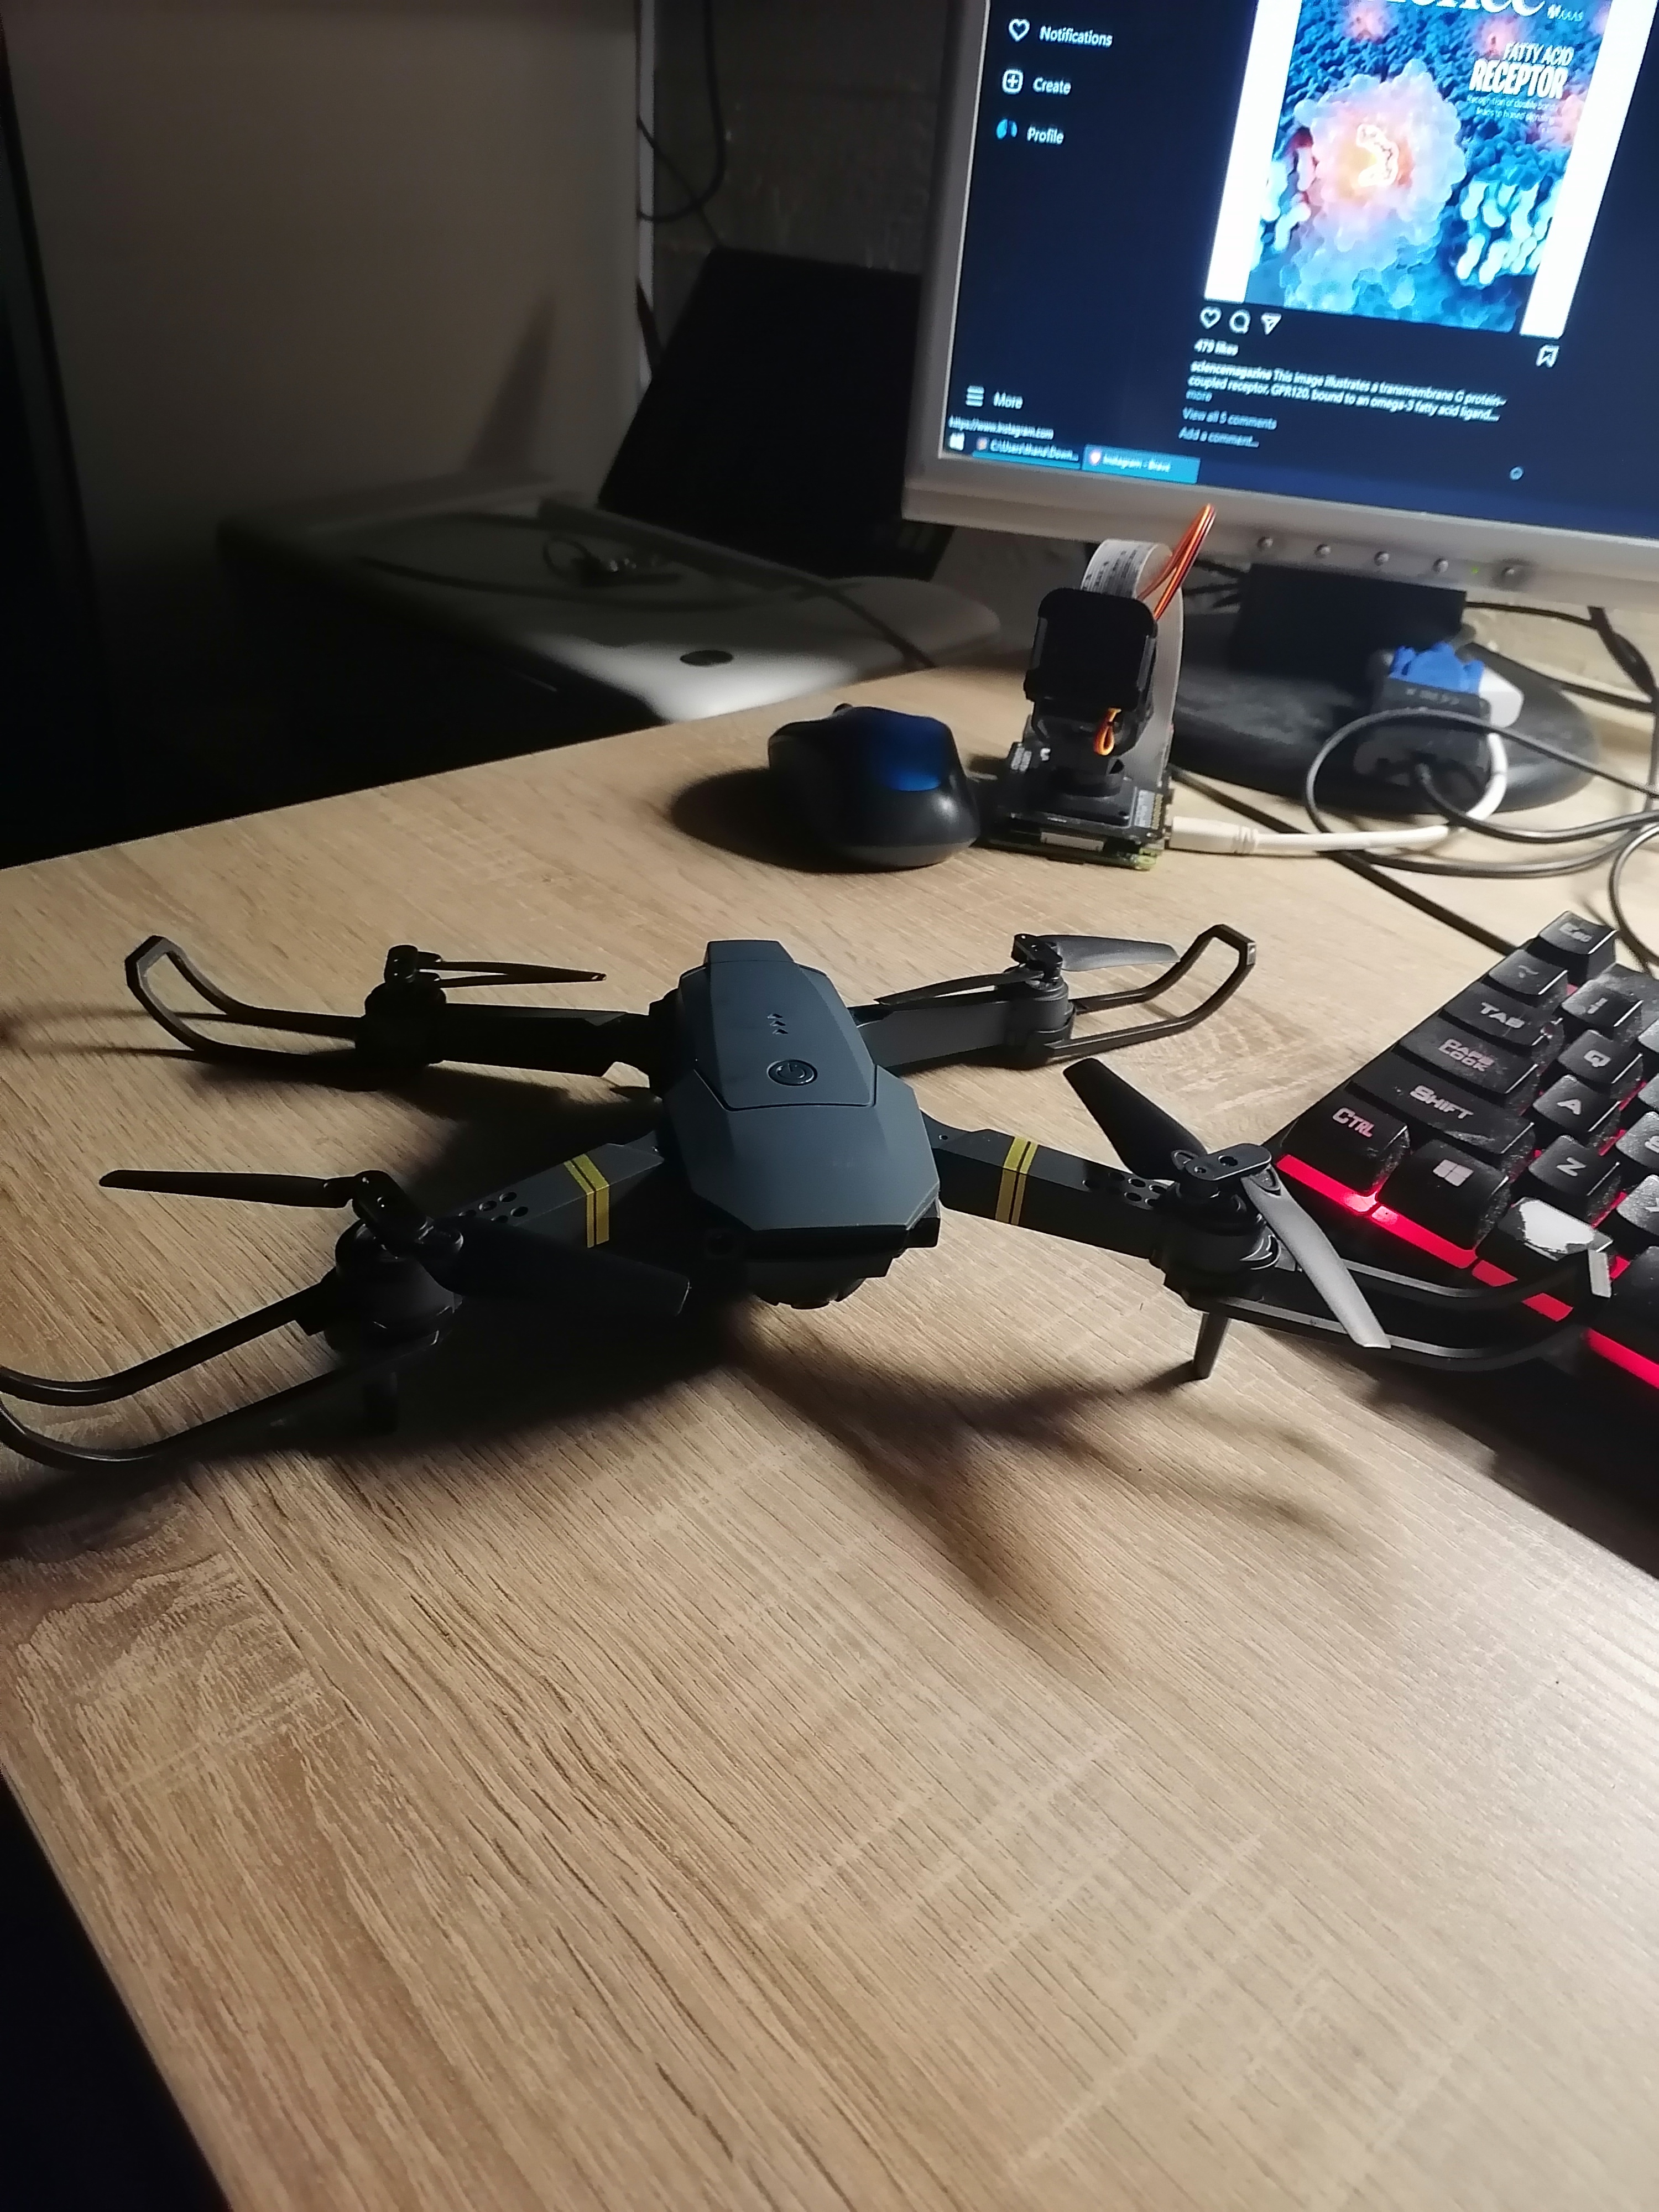drone: (143, 916, 1436, 1404)
